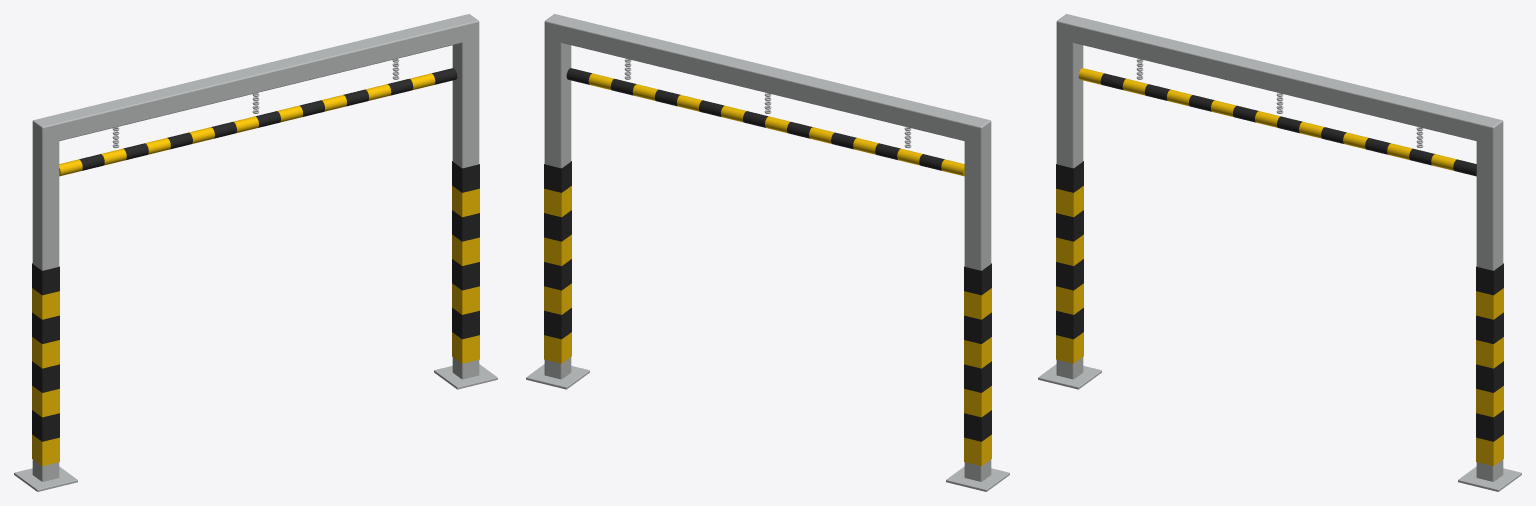
File: city-height-limit-gantry.glb
3 renders of one model, left to right at view 1: azimuth 30°, elevation 25°; view 2: azimuth 150°, elevation 25°; view 3: azimuth 330°, elevation 25°, orthographic.
Visible parts, largest first — view 1: Assembly | Galvanized gantry steel, Assembly | Black hazard band, Assembly | Yellow hazard band; view 2: Assembly | Galvanized gantry steel, Assembly | Black hazard band, Assembly | Yellow hazard band; view 3: Assembly | Galvanized gantry steel, Assembly | Black hazard band, Assembly | Yellow hazard band.
Boxes of the visible parts, left/top/right/bottom form: Assembly | Galvanized gantry steel: left=14, top=14, right=497, bottom=491; Assembly | Black hazard band: left=32, top=68, right=479, bottom=441; Assembly | Yellow hazard band: left=32, top=73, right=479, bottom=466; Assembly | Galvanized gantry steel: left=526, top=14, right=1009, bottom=491; Assembly | Black hazard band: left=544, top=68, right=991, bottom=441; Assembly | Yellow hazard band: left=544, top=73, right=991, bottom=466; Assembly | Galvanized gantry steel: left=1038, top=14, right=1521, bottom=491; Assembly | Black hazard band: left=1056, top=73, right=1503, bottom=441; Assembly | Yellow hazard band: left=1056, top=68, right=1503, bottom=466.
Bounding box in the file's own units: 3.95 × 2.92 × 0.35.
